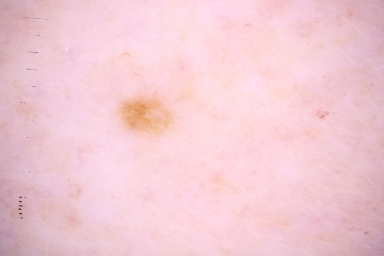nevus: (124, 101, 168, 133)
